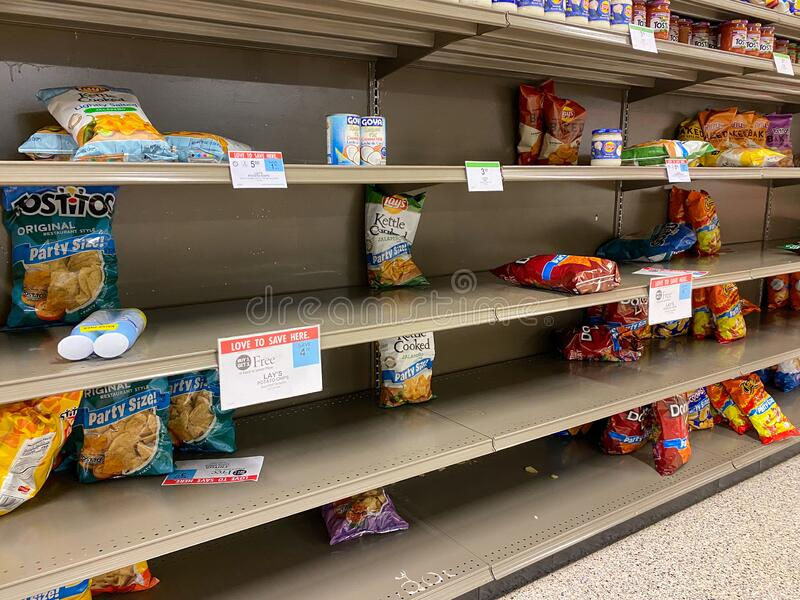chip: (17, 185, 117, 318), (82, 376, 170, 481), (371, 186, 435, 295), (507, 249, 610, 299), (383, 318, 440, 408), (174, 363, 232, 451), (721, 378, 794, 447), (656, 393, 699, 473), (602, 224, 688, 263), (712, 276, 740, 345), (696, 185, 718, 257)
